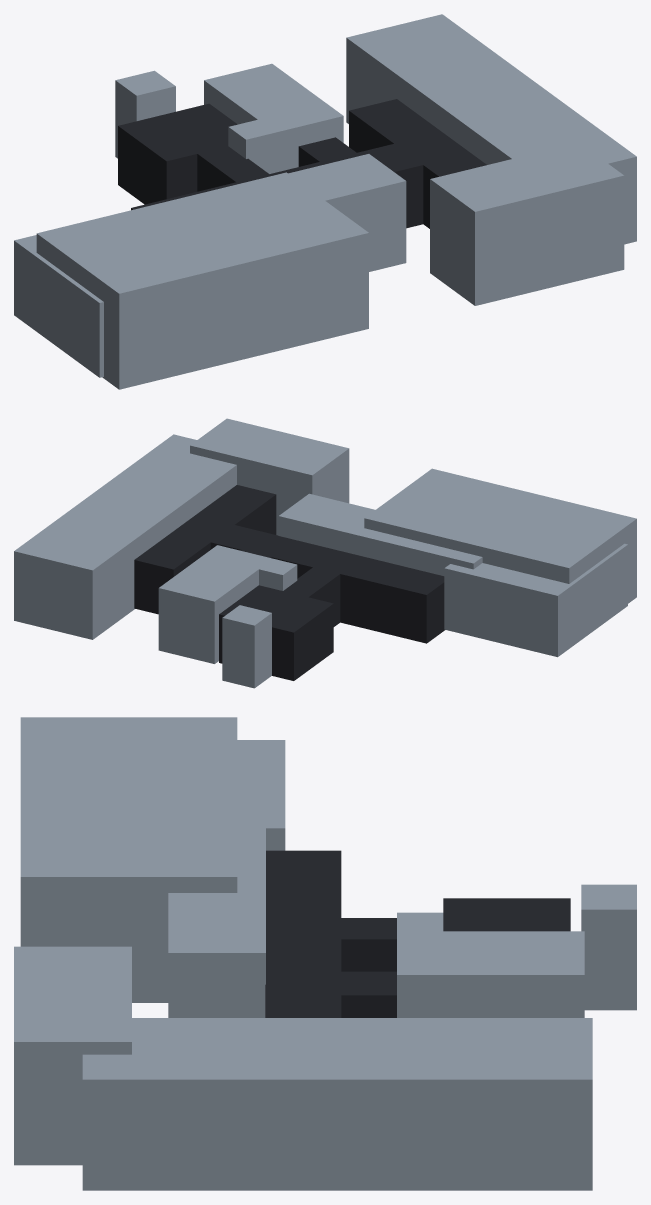
Rendered from Level 3.fbx.
3 views of the same model, one above another, from view 1: azimuth 30°, elevation 25°; view 2: azimuth 150°, elevation 25°; view 3: azimuth 270°, elevation 25° (orthographic). The views are drawn at different scales.
Parts seen in each view (by area): view 1: Wall__15_, Wall__5_, Wall__4_, Floor, Wall__18_, Wall__21_, Floor_2, Wall__12_, Wall__22_, Floor_3, Wall__13_, Floor_1 (+1 smaller); view 2: Wall__4_, Wall__15_, Wall__18_, Floor_3, Wall__5_, Wall__12_, Wall__21_, Floor_2, Floor, Wall__13_, Floor_1, Wall__22_ (+1 smaller); view 3: Wall__4_, Wall__15_, Wall__5_, Wall__21_, Wall__12_, Floor_3, Wall__13_, Floor, Wall__22_, Wall__18_, Floor_1, Floor__1_.
Boxes of the visible parts, x1,y1,x2,y2 form: Wall__15_: (36, 172, 368, 389); Wall__5_: (430, 142, 624, 305); Wall__4_: (346, 14, 636, 244); Floor: (118, 103, 237, 204); Wall__18_: (14, 235, 103, 377); Wall__21_: (288, 154, 406, 271); Floor_2: (349, 99, 486, 228); Wall__12_: (204, 63, 333, 125); Wall__22_: (228, 109, 343, 173); Floor_3: (131, 133, 470, 228); Wall__13_: (115, 70, 175, 158); Floor_1: (197, 146, 271, 191); Wall__4_: (14, 434, 236, 639); Wall__15_: (364, 468, 636, 603); Wall__18_: (444, 543, 627, 657); Floor_3: (171, 521, 444, 643); Wall__5_: (190, 418, 349, 535); Wall__12_: (158, 551, 264, 663); Wall__21_: (278, 493, 482, 575); Floor_2: (134, 485, 276, 614); Floor: (219, 585, 333, 680); Wall__13_: (222, 605, 271, 688); Floor_1: (282, 550, 355, 626); Wall__22_: (210, 545, 297, 590); Wall__4_: (82, 1018, 592, 1190); Wall__15_: (20, 717, 237, 1002); Wall__5_: (14, 946, 131, 1165); Wall__21_: (168, 800, 265, 1017); Wall__12_: (422, 931, 584, 1017); Floor_3: (265, 850, 341, 1017); Wall__13_: (581, 884, 636, 1010); Floor: (443, 898, 570, 931); Wall__22_: (397, 912, 443, 1017); Wall__18_: (237, 740, 285, 850); Floor_1: (267, 918, 396, 971); Floor__1_: (272, 971, 396, 1017).
Bounding box in the file's own units: 11777 × 2002 × 8881.
